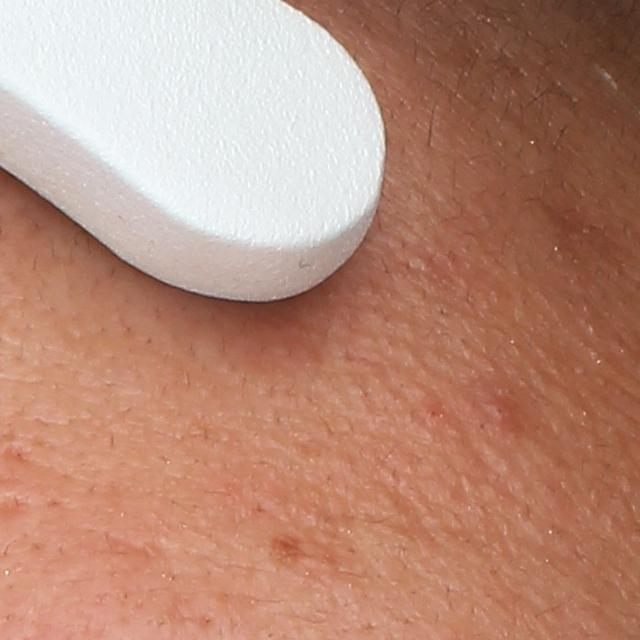atrophic_scar: (366, 495, 442, 548), (106, 532, 179, 576)
papule: (453, 377, 525, 435)
